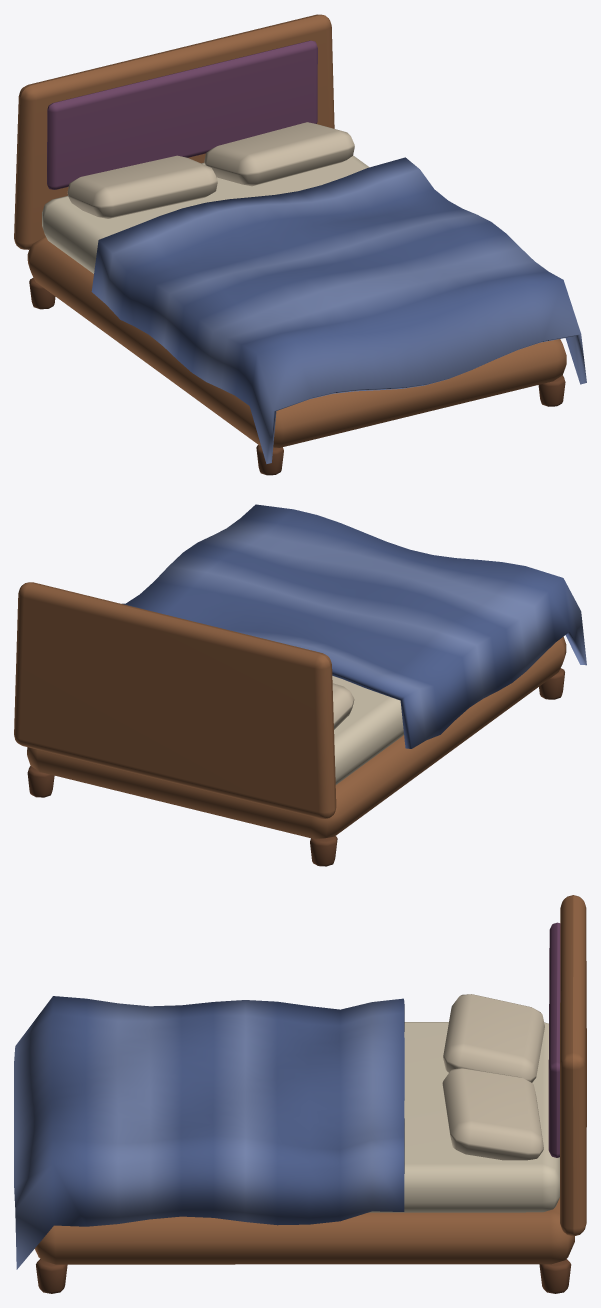
File: bed.glb
3 renders of one model, top to bottom at view 1: azimuth 30°, elevation 25°; view 2: azimuth 150°, elevation 25°; view 3: azimuth 270°, elevation 25°, orthographic. The views are drawn at different scales.
Parts seen in each view (by area): view 1: blanket, bed; view 2: bed, blanket; view 3: blanket, bed.
Boxes of the visible parts, box(x1,y1,x2,y2) form: blanket: box(91, 157, 586, 463); bed: box(14, 14, 566, 475); bed: box(14, 582, 566, 866); blanket: box(122, 504, 586, 748); blanket: box(14, 996, 404, 1269); bed: box(35, 895, 586, 1293).
Size of the model in its own units: 1.55 by 0.995 by 2.16.
